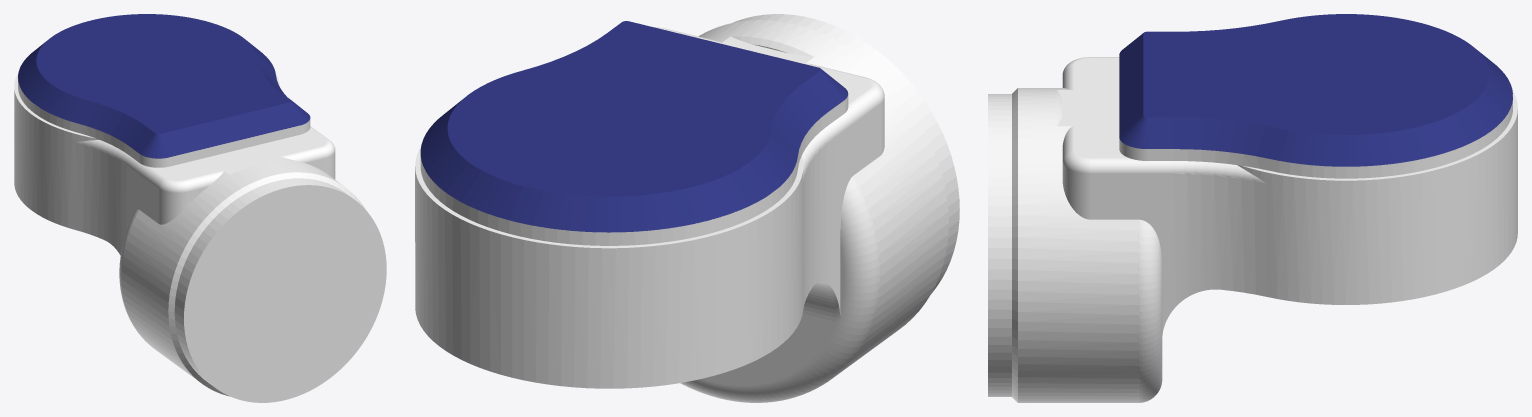
3 renders of one model, left to right at view 1: azimuth 30°, elevation 25°; view 2: azimuth 150°, elevation 25°; view 3: azimuth 270°, elevation 25°, orthographic. The views are drawn at different scales.
Visible parts, largest first — view 1: Link_L; view 2: Link_L; view 3: Link_L.
Boxes of the visible parts, bbox=[...] form: Link_L: bbox=[14, 14, 386, 402]; Link_L: bbox=[415, 14, 959, 402]; Link_L: bbox=[988, 14, 1517, 402].
Bounding box in the file's own units: 0.144 × 0.222 × 0.145.
Materials: 1 (1 with a texture image).
